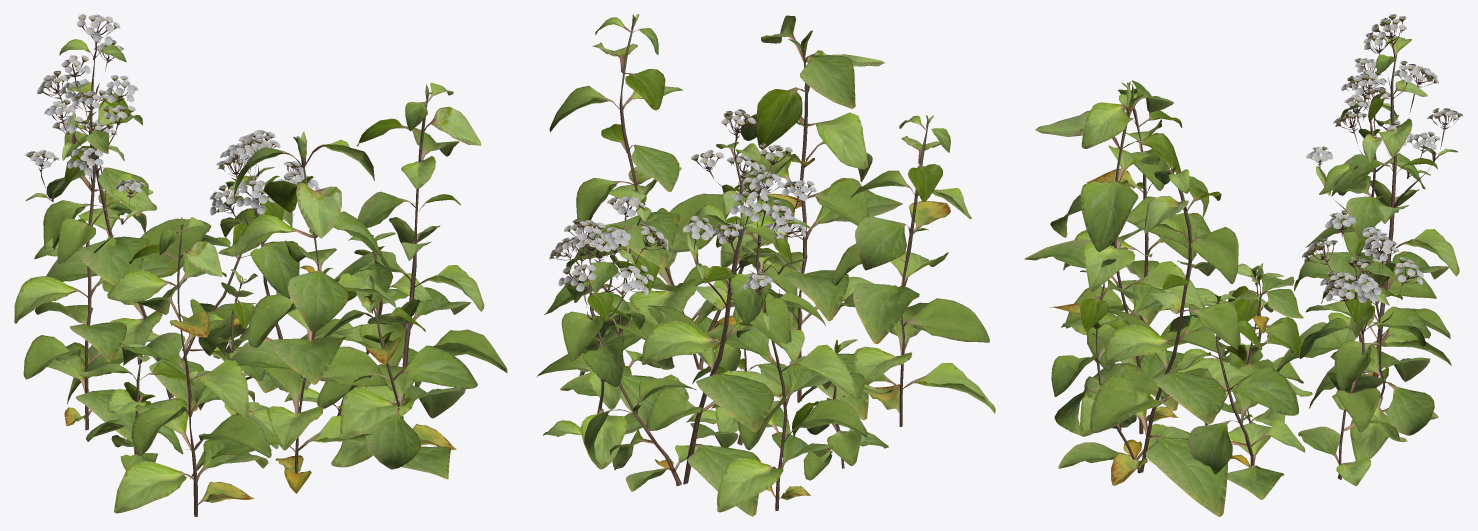
The model's file is urbanShrub.glb.
3 renders of one model, left to right at view 1: azimuth 30°, elevation 25°; view 2: azimuth 150°, elevation 25°; view 3: azimuth 270°, elevation 25°, orthographic. The views are drawn at different scales.
Parts seen in each view (by area): view 1: shrub_01_compact_1; view 2: shrub_01_compact_1; view 3: shrub_01_compact_1.
Part boxes in pixels (box(x1,y1,x2,y2)): shrub_01_compact_1: box(14, 14, 507, 516); shrub_01_compact_1: box(536, 14, 995, 516); shrub_01_compact_1: box(1024, 14, 1463, 516).
Size of the model in its own units: 0.3871 by 0.3793 by 0.3947.
Materials: 1 (1 with a texture image).
